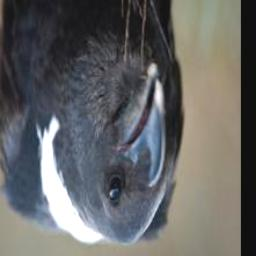Crow: (0, 0, 185, 250)
